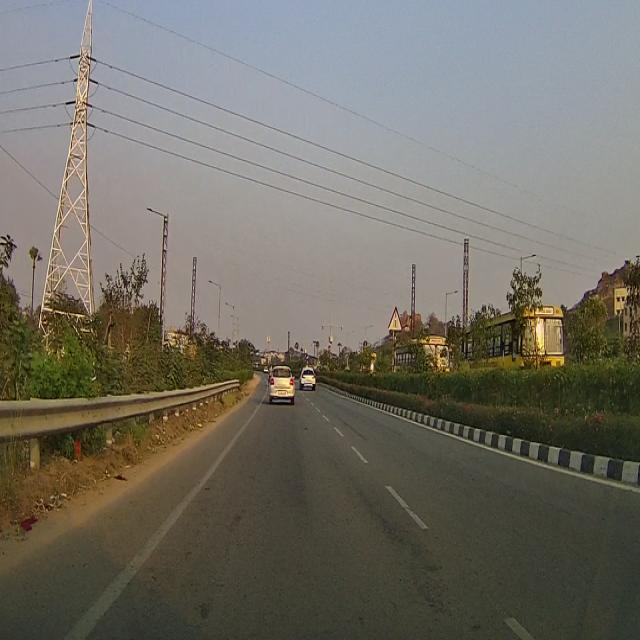gap-in-median: (388, 308, 403, 334)
